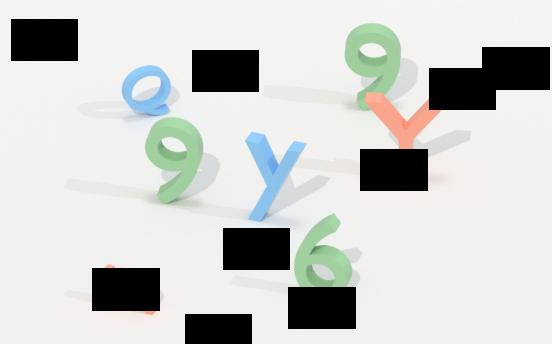6: (291, 213, 356, 300)
9: (340, 24, 408, 113), (142, 118, 205, 205)
Y: (240, 132, 305, 223)
Y-hoa: (359, 91, 454, 184)
m: (100, 262, 162, 318)
q: (119, 64, 174, 116)
